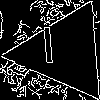I: (39, 27, 58, 73)
